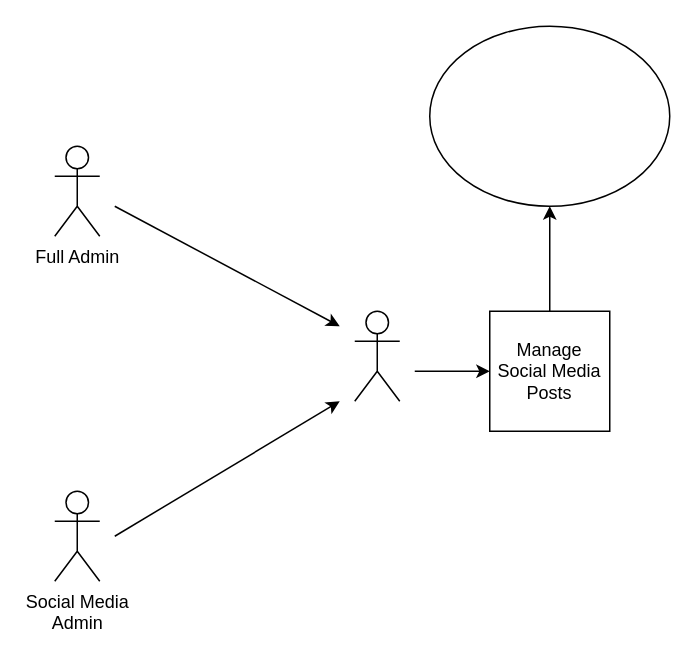
Image size: 696x662. Some labels were removed from this diagram. The shapes that lost their labels are listed below. From the top down, each one's centre as x and y in pixels, then its label:
[549,115]: Manage the social media content that gets put on the website
[376,355]: User
